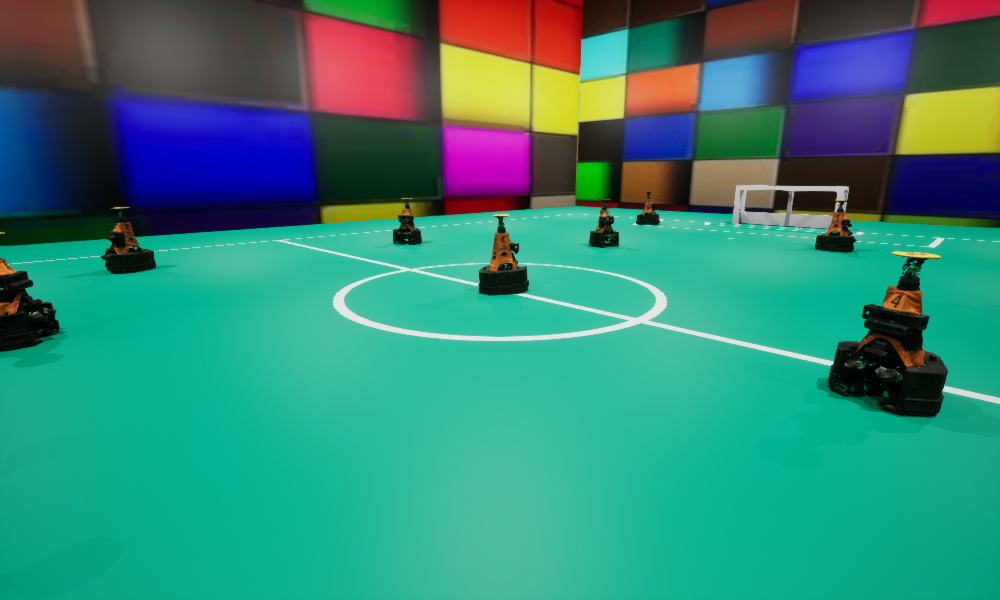0 orange robot TechUnited: (828, 251, 947, 415), (0, 232, 59, 351), (479, 214, 528, 294), (101, 207, 155, 272), (815, 200, 856, 252), (589, 199, 618, 247), (393, 198, 421, 243), (636, 192, 659, 224)
